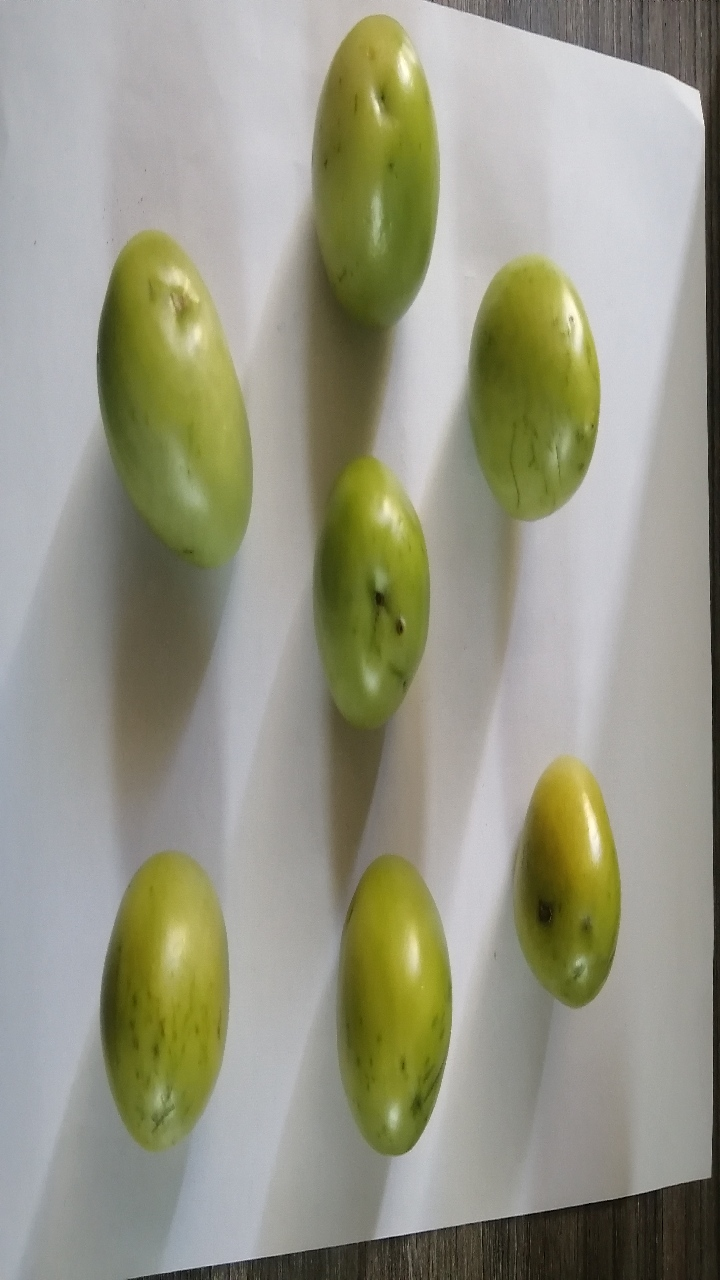tomateVerde: (75, 208, 283, 580), (448, 249, 623, 566), (84, 828, 240, 1162), (331, 831, 468, 1185), (314, 11, 454, 340), (306, 440, 446, 740), (494, 732, 631, 1034)
